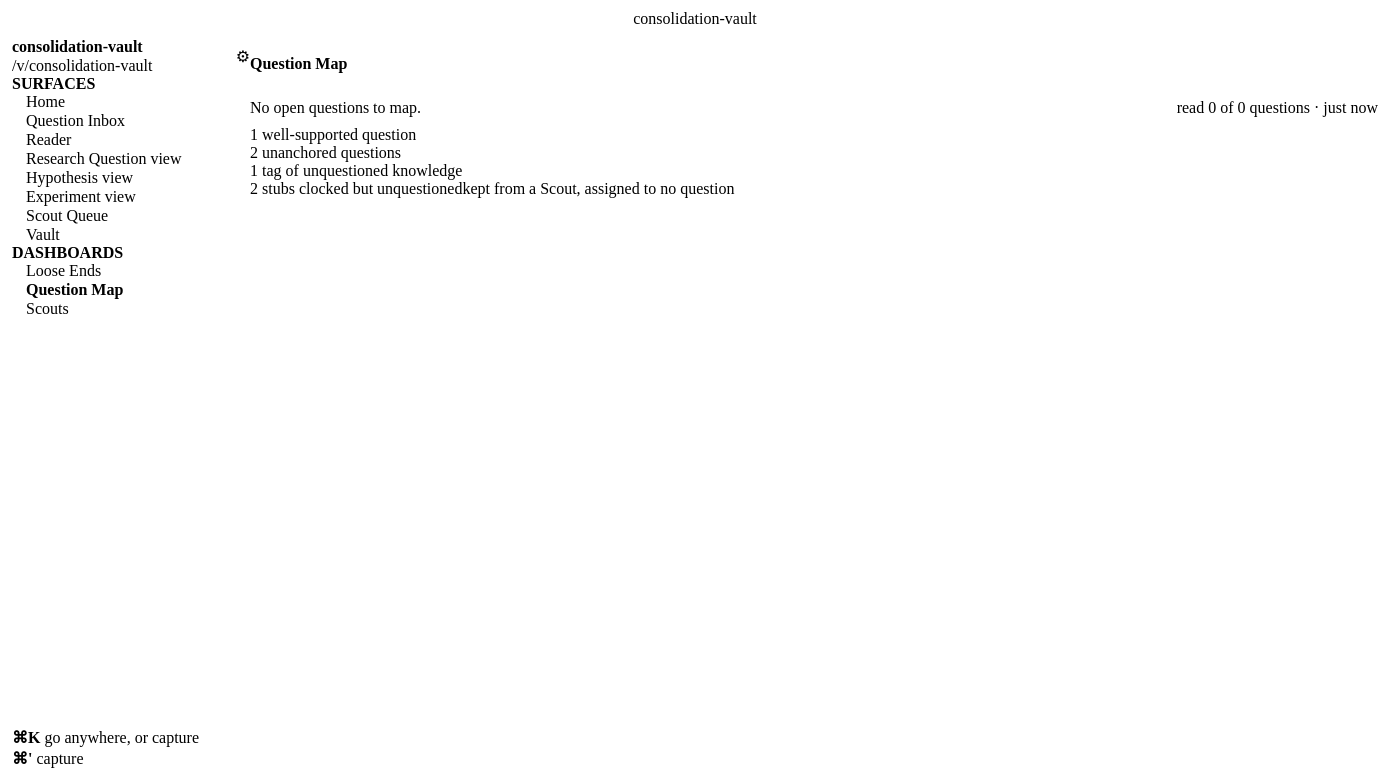
it: the four readings › opens one reading's full list on request, and closes it again
The width and height of the screenshot is (1390, 768).
Click the button "2 unanchored questions" at (326,153), box [250,144,401,162]
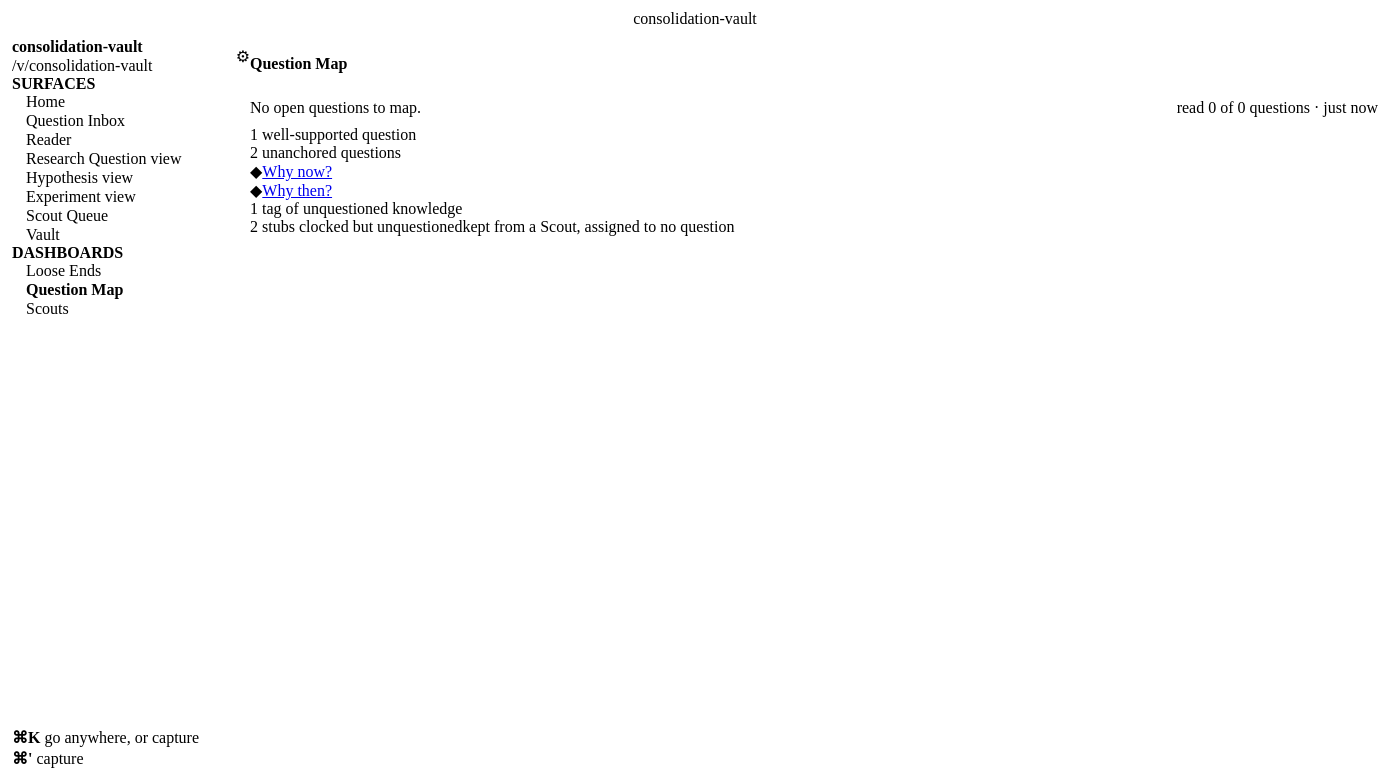
Click the button "2 unanchored questions" at (326,153), box [250,144,401,162]
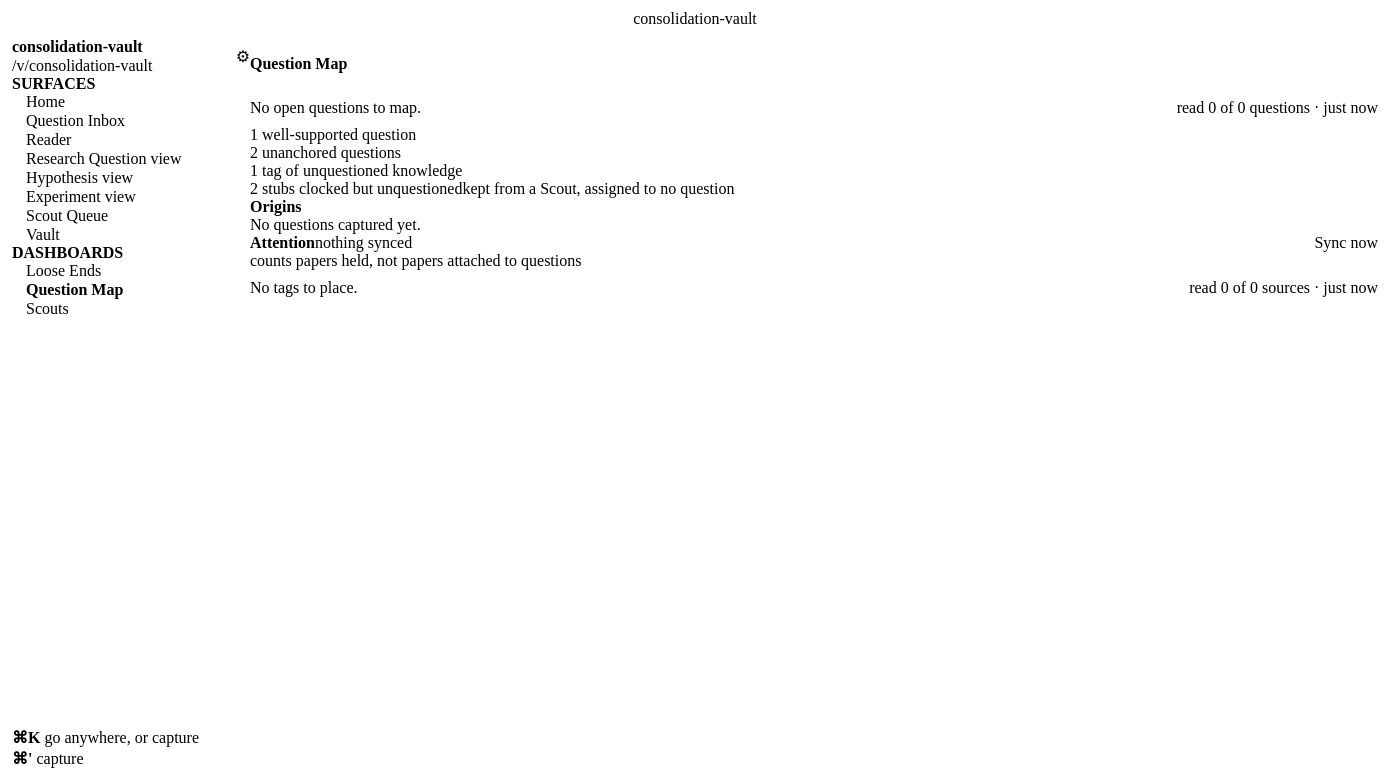
Result: the link "Why now?" is gone
